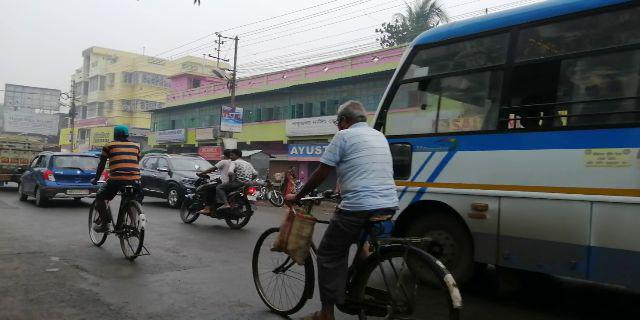Bus: (358, 4, 640, 291)
Car: (27, 153, 102, 212)
Cycle: (246, 102, 459, 307), (83, 125, 153, 265)
Motorbike: (180, 146, 253, 224)
